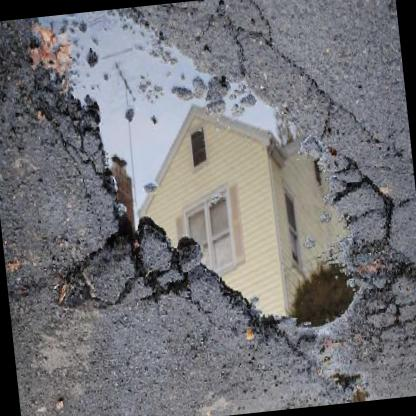pothole: (26, 0, 412, 377)
